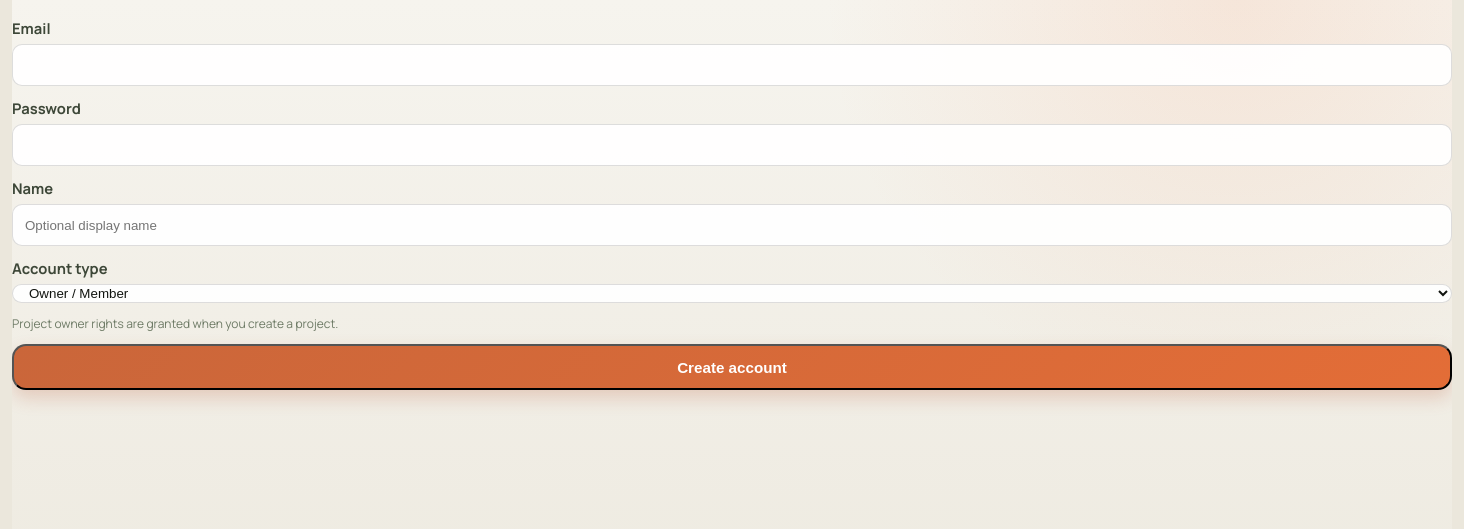
RegisterForm › renders backend error message when registration fails
The image size is (1464, 529).
In the field with test id "register-email": (732, 65) [12,44,1452,86], type "admin@test.com"
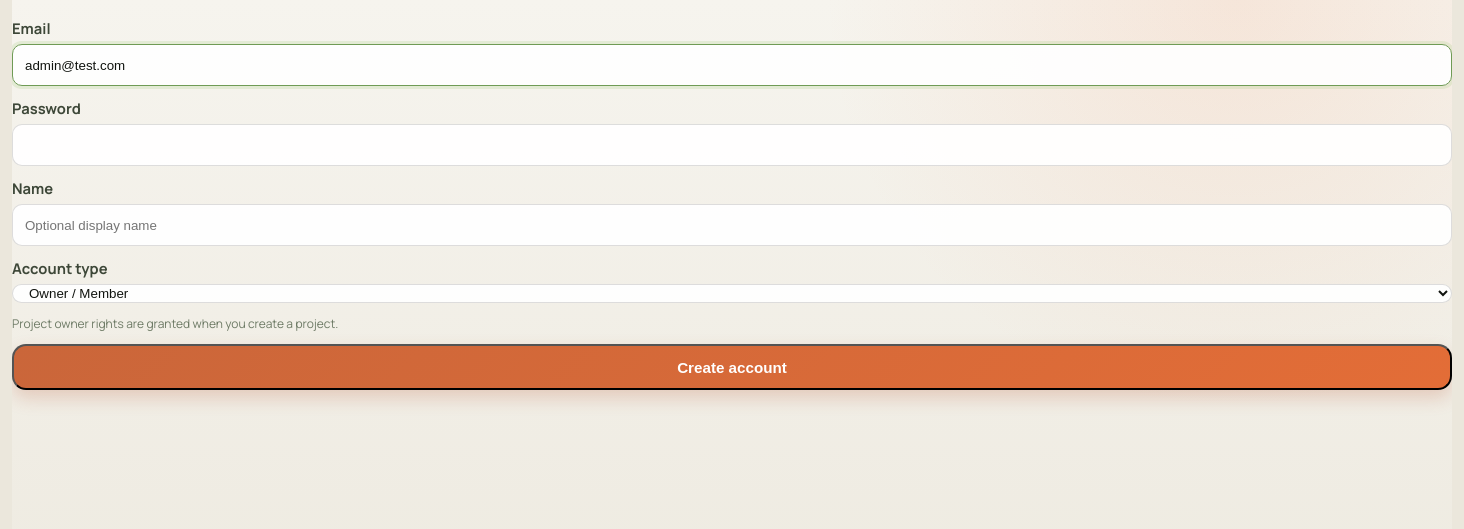
In the password field with test id "register-password": (732, 145) [12,124,1452,166], type "123456"
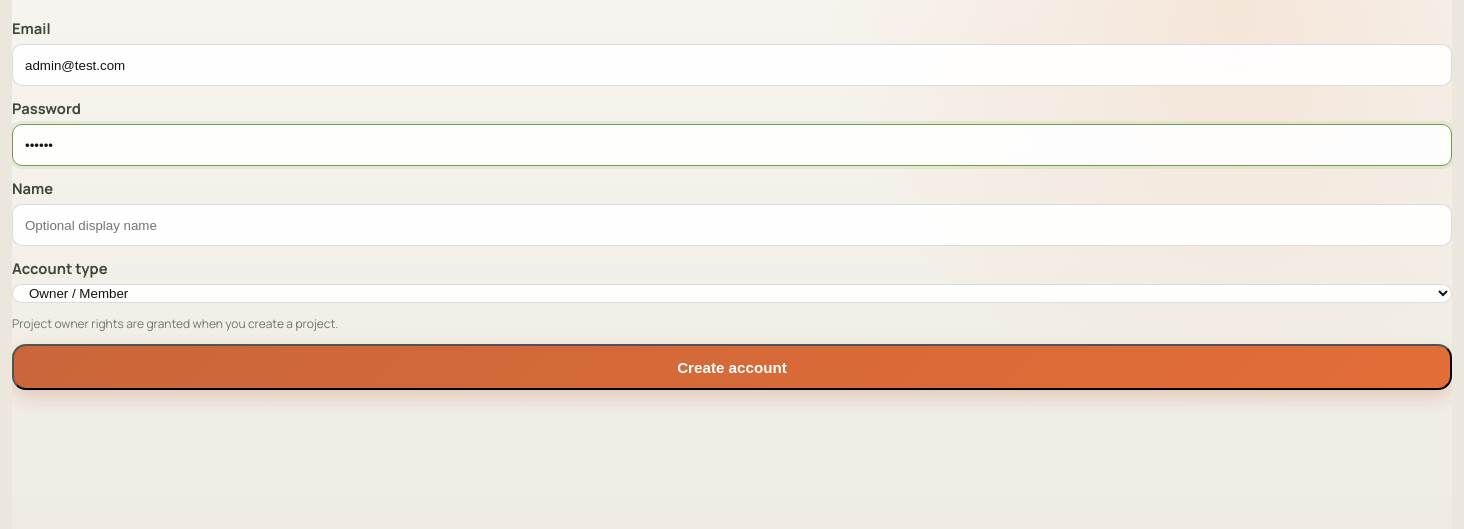
Select "Admin" in the dropdown with test id "register-role": (732, 294) [12,284,1452,303]
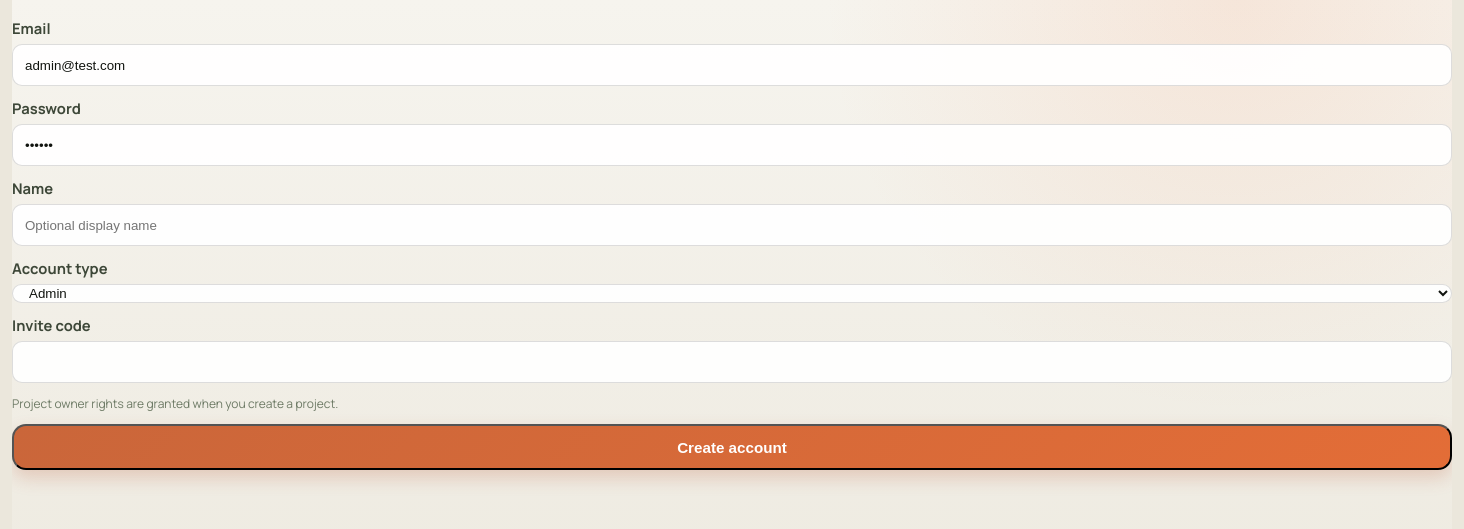
In the password field with test id "register-invite-code": (732, 362) [12,341,1452,383], type "BAD-CODE"
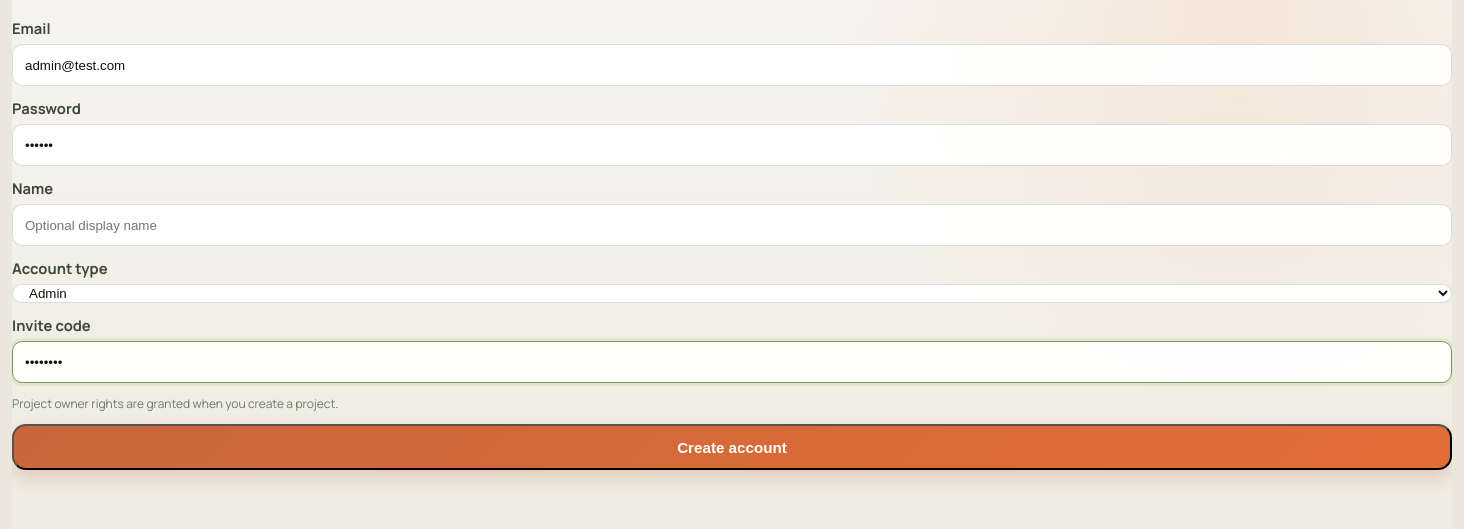
Click the button with test id "register-submit": (732, 447) [12,424,1452,470]
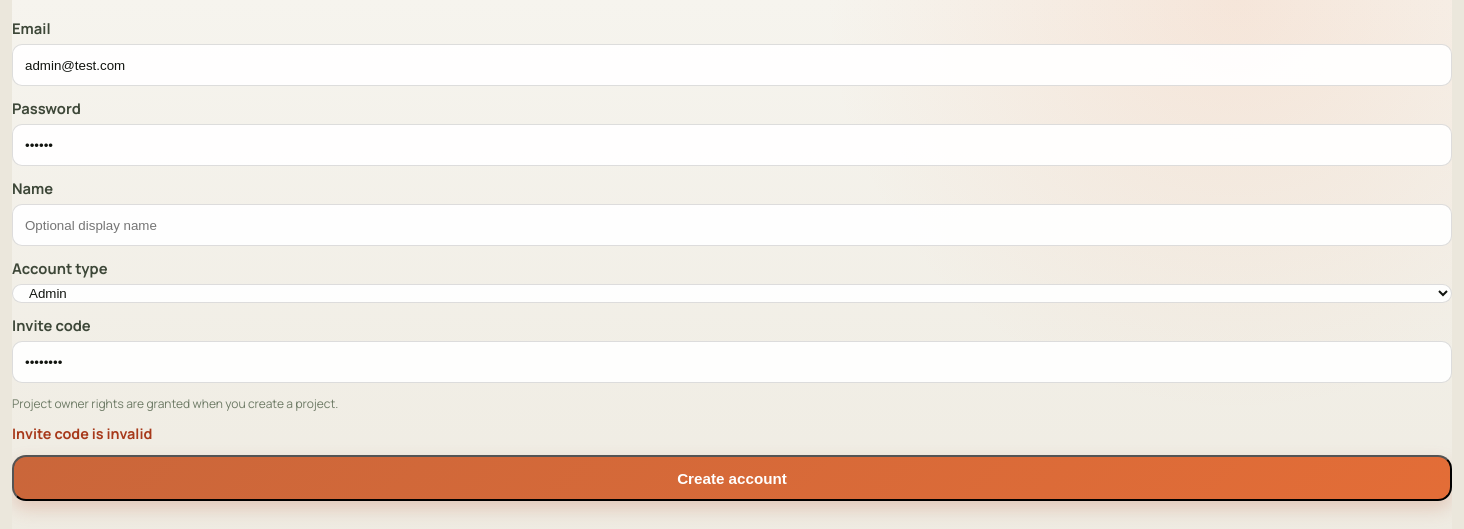
Expected: the text "Invite code is invalid" is shown, [12,424,152,443]
